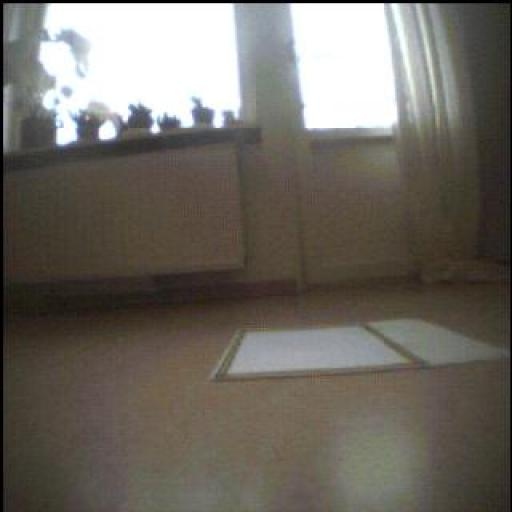Pad: (216, 316, 485, 381)
